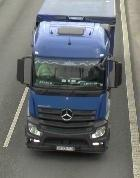Truck: (18, 0, 124, 154)
